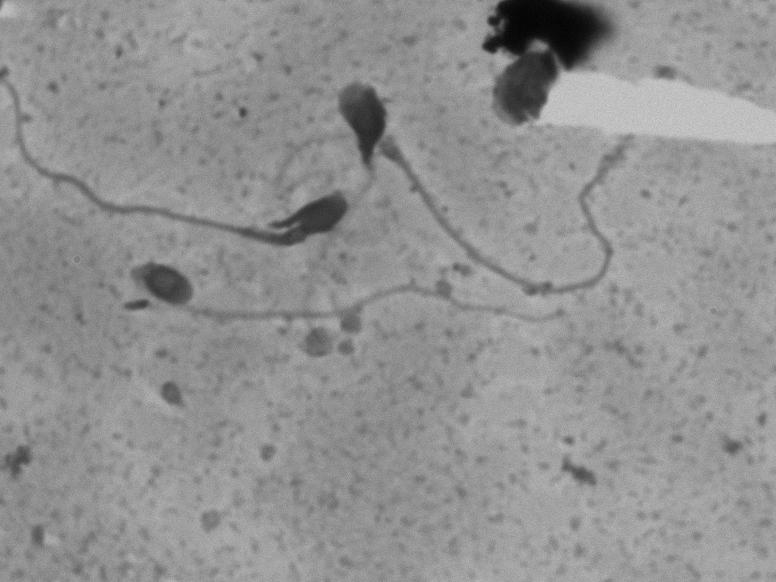Abnormal: (1, 68, 357, 263), (91, 230, 576, 363)
